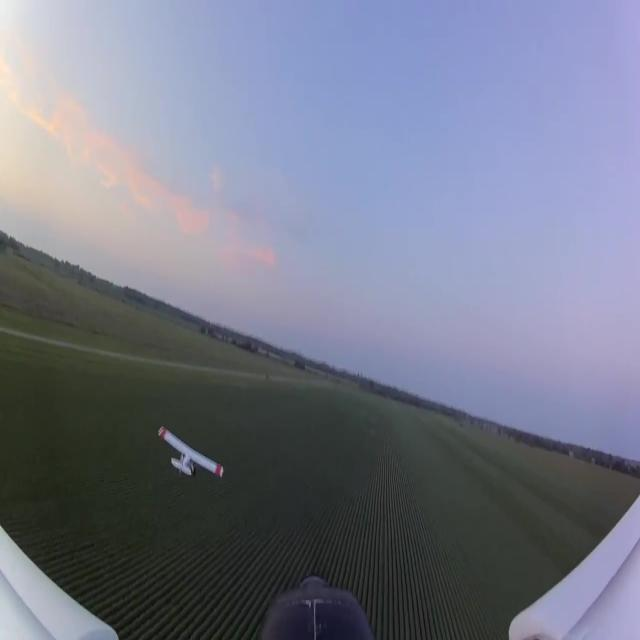iha: (189, 420, 193, 478)
